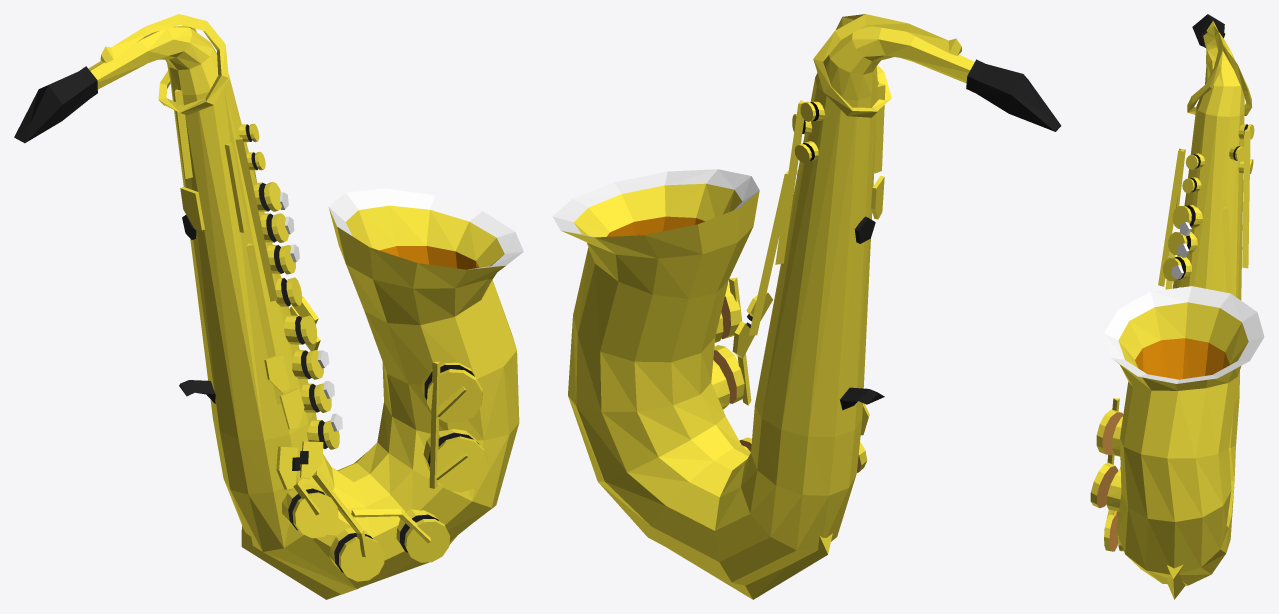
File: Epic Sax.glb
The picture shows the model from 3 angles, left to right: view 1: azimuth 30°, elevation 25°; view 2: azimuth 150°, elevation 25°; view 3: azimuth 270°, elevation 25°; orthographic projection. The views are drawn at different scales.
Visible parts, largest first — view 1: group1266770644, group1219101750, group43614548, group1764065352, group219766238, group459676205, group798102590, group1116570137, group1579236656, group987912392, group1692049924, group1796384025 (+16 smaller); view 2: group1266770644, group1219101750, group43614548, group1579236656, group1764065352, group1363120611, group1687041257, group219766238, group2131741375; view 3: group1266770644, group43614548, group1764065352, group219766238, group1363120611, group987912392, group1687041257, group122032081, group1116570137, group1219101750, group781894449, group582675672 (+3 smaller).
Part boxes in pixels (x1=…): group1266770644: x1=88, y1=25, x2=523, y2=594; group1219101750: x1=14, y1=66, x2=97, y2=143; group43614548: x1=100, y1=14, x2=228, y2=115; group1764065352: x1=423, y1=429, x2=488, y2=492; group219766238: x1=422, y1=362, x2=482, y2=423; group459676205: x1=282, y1=483, x2=338, y2=538; group798102590: x1=328, y1=528, x2=384, y2=581; group1116570137: x1=396, y1=509, x2=450, y2=562; group1579236656: x1=241, y1=526, x2=456, y2=599; group987912392: x1=235, y1=137, x2=277, y2=301; group1692049924: x1=246, y1=243, x2=283, y2=404; group1796384025: x1=429, y1=361, x2=440, y2=488; group1266770644: x1=552, y1=25, x2=974, y2=585; group1219101750: x1=966, y1=59, x2=1061, y2=131; group43614548: x1=813, y1=14, x2=961, y2=117; group1579236656: x1=668, y1=533, x2=832, y2=599; group1764065352: x1=711, y1=345, x2=744, y2=409; group1363120611: x1=775, y1=100, x2=804, y2=264; group1687041257: x1=749, y1=171, x2=788, y2=335; group219766238: x1=715, y1=283, x2=741, y2=342; group2131741375: x1=874, y1=83, x2=885, y2=173; group1266770644: x1=1104, y1=32, x2=1264, y2=585; group43614548: x1=1187, y1=21, x2=1251, y2=115; group1764065352: x1=1090, y1=462, x2=1121, y2=511; group219766238: x1=1096, y1=409, x2=1123, y2=456; group1363120611: x1=1242, y1=129, x2=1250, y2=268; group987912392: x1=1158, y1=150, x2=1184, y2=286; group1687041257: x1=1222, y1=207, x2=1232, y2=293; group122032081: x1=1172, y1=205, x2=1202, y2=229; group1116570137: x1=1104, y1=514, x2=1123, y2=551; group1219101750: x1=1192, y1=14, x2=1225, y2=47; group781894449: x1=1163, y1=256, x2=1191, y2=281; group582675672: x1=1168, y1=232, x2=1197, y2=255.
Bounding box in the file's own units: 0.5925 × 0.7099 × 0.2313.
